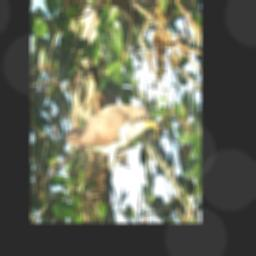Cuckoo: (63, 101, 160, 188)
